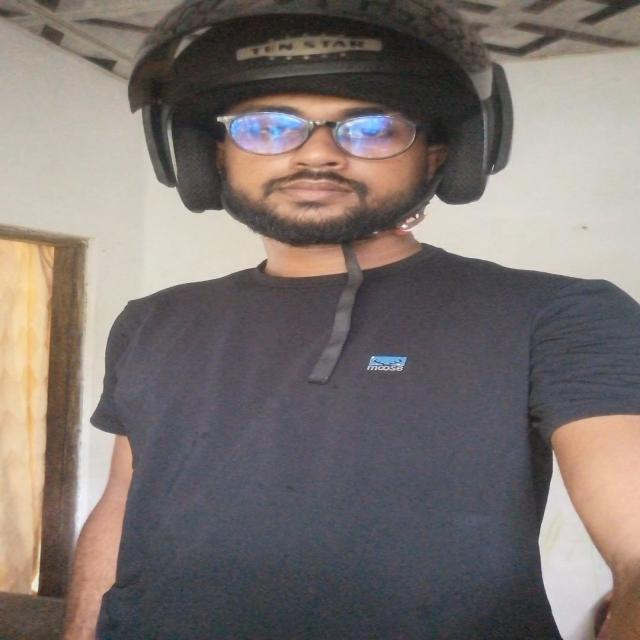Helmet_Wearer: (99, 0, 512, 271)
Person: (71, 0, 640, 640)
